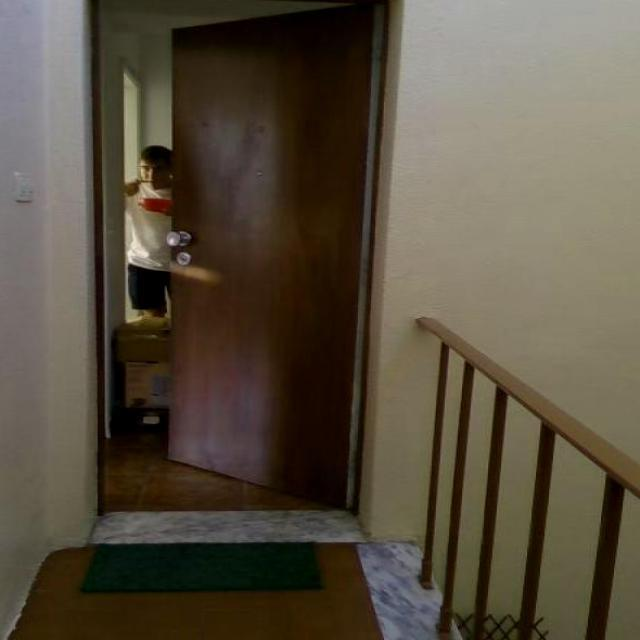door: (164, 3, 383, 510)
